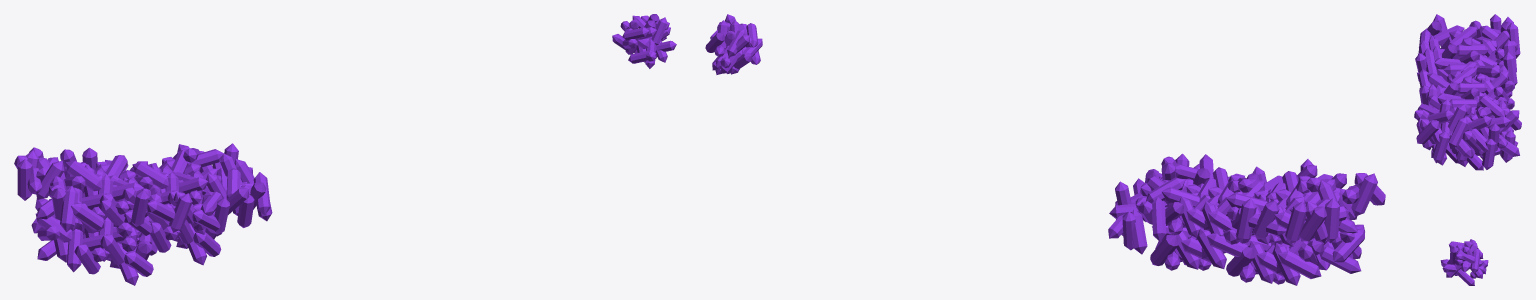
The model's file is Train_Crystals.fbx.
The picture shows the model from 3 angles, left to right: view 1: azimuth 30°, elevation 25°; view 2: azimuth 150°, elevation 25°; view 3: azimuth 270°, elevation 25°; orthographic projection. The views are drawn at different scales.
Visible parts, largest first — view 1: Crystal.002, Crystal.250; view 2: Crystal.002, Crystal.250; view 3: Crystal.002, Crystal.250.
Boxes of the visible parts, x1,y1,x2,y2 form: Crystal.002: (14,143,272,285); Crystal.250: (612,14,676,68); Crystal.002: (1108,153,1385,285); Crystal.250: (705,14,762,74); Crystal.002: (1414,14,1521,170); Crystal.250: (1440,239,1488,285).
Size of the model in its own units: 944 by 174 by 174.
